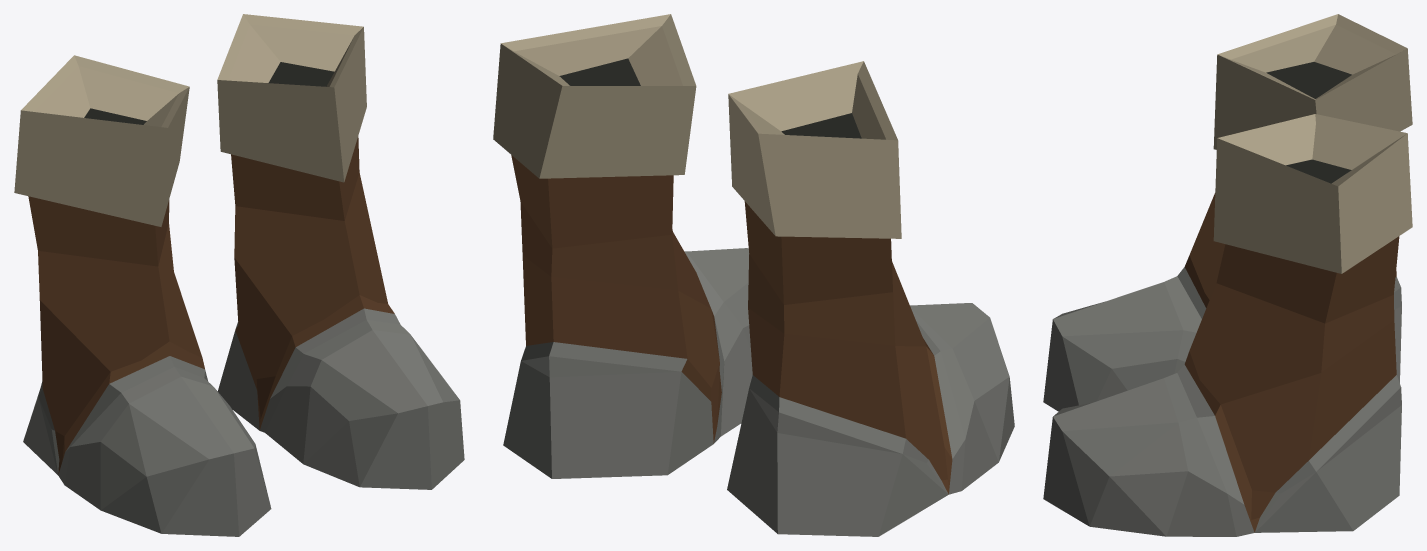
Rendered from Botas de cuero .fbx.
3 renders of one model, left to right at view 1: azimuth 30°, elevation 25°; view 2: azimuth 150°, elevation 25°; view 3: azimuth 270°, elevation 25°, orthographic. The views are drawn at different scales.
Visible parts, largest first — view 1: .011; view 2: .011; view 3: .011.
Boxes of the visible parts, x1,y1,x2,y2 form: .011: (14, 14, 464, 536); .011: (493, 14, 1014, 536); .011: (1043, 14, 1412, 536).
Bounding box in the file's own units: 91.9 × 86.62 × 80.56.
